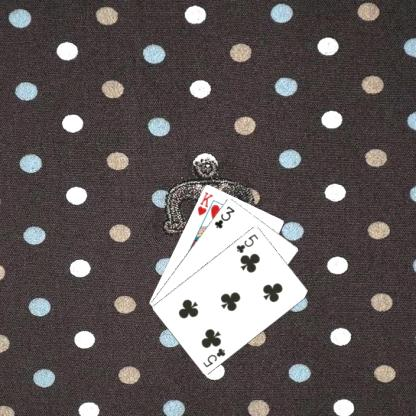3C: (212, 203, 236, 230)
5C: (233, 231, 260, 254), (200, 345, 227, 368)
KH: (194, 189, 214, 217)
